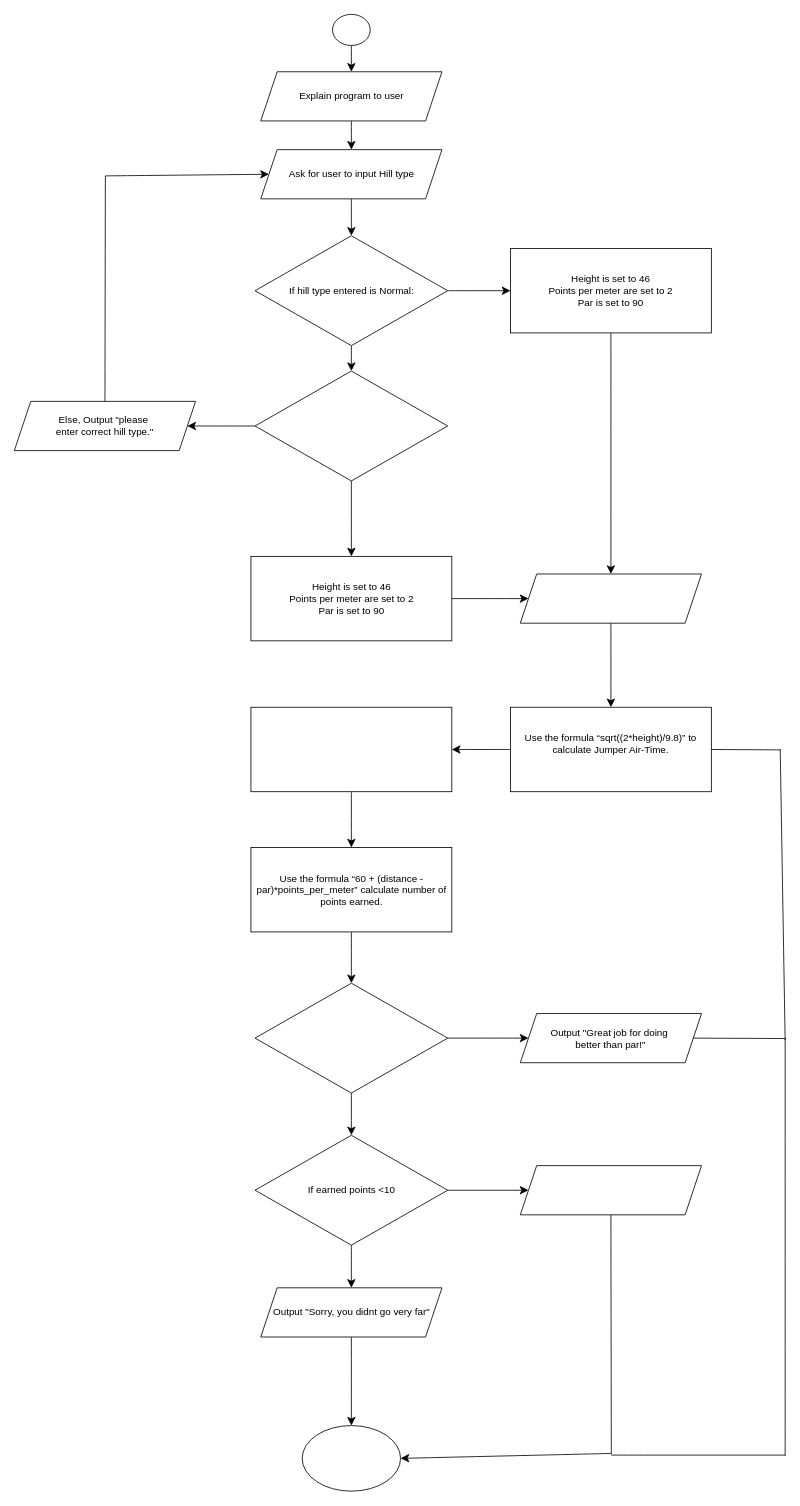
This 800x1506 diagram has some shape labels left out. Each missing label, with the centre of its shape:
Ask for user to input Jumper Speed: [610,598]
If hill type entered is Large:: [351,425]
If points earned is >= to 61: [351,1037]
output "What happened?": [610,1190]
Use the formula “jumper’s speed * time in the air” calculate Distance Travele: [351,749]
